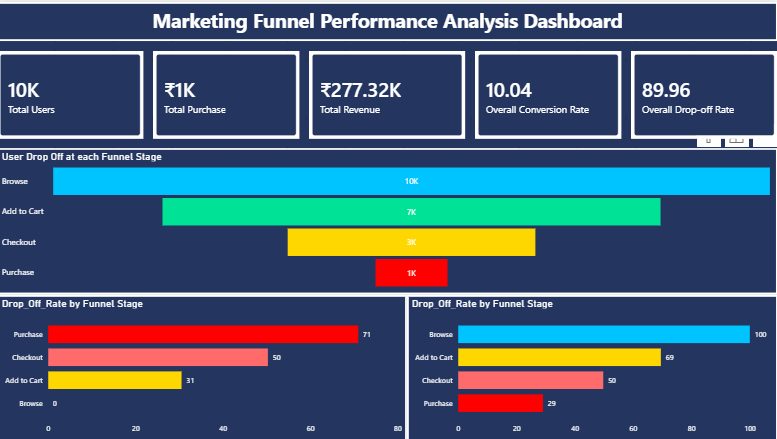

The page's visual inventory and layout, read from the dashboard file:
{"tool":"powerbi","page":{"name":"Funnel Overview","canvas":[1280,720],"ordinal":0},"visuals":[{"type":"textbox","box":[0,0,1280,64],"z":0},{"type":"funnel","title":"User Drop Off at each Funnel Stage","fields":{"Y":["Sum(funnel_summary.Users)"],"Category":["funnel_summary.Stage"]},"box":[0,240,1280,240],"z":1000},{"type":"clusteredBarChart","title":"Drop_Off_Rate by Funnel Stage","fields":{"Category":["funnel_summary.Stage"],"Y":["Sum(funnel_summary.Drop_Off_Rate)"]},"box":[0,480,672,240],"z":2000},{"type":"clusteredBarChart","title":"Drop_Off_Rate by Funnel Stage","fields":{"Category":["funnel_summary.Stage"],"Y":["Sum(funnel_summary.Conversion_from_Previous)"]},"box":[672,480,608,240],"z":3000},{"type":"cardVisual","fields":{"Data":["channel_summary.Total Users"]},"box":[0,80,240,144],"z":4000},{"type":"cardVisual","fields":{"Data":["channel_summary.Total Purchase"]},"box":[256,80,240,144],"z":5000},{"type":"cardVisual","fields":{"Data":["channel_summary.Total Revenue"]},"box":[512,80,256,144],"z":6000},{"type":"cardVisual","fields":{"Data":["channel_summary.Overall Conversion Rate"]},"box":[784,80,240,144],"z":7000},{"type":"cardVisual","fields":{"Data":["channel_summary.Overall Drop-off Rate"]},"box":[1040,80,240,144],"z":8000}]}

Visuals, with their boxes in screenshot pixels (x1, y1, x2, y2), scaled from the page's 1280x720 canvas onto the 777x439 screenshot:
textbox: locate(0, 0, 776, 39)
"User Drop Off at each Funnel Stage" funnel: locate(0, 146, 776, 293)
"Drop_Off_Rate by Funnel Stage" clusteredBarChart: locate(0, 293, 408, 438)
"Drop_Off_Rate by Funnel Stage" clusteredBarChart: locate(408, 293, 776, 438)
cardVisual - channel_summary.Total Users: locate(0, 49, 146, 137)
cardVisual - channel_summary.Total Purchase: locate(155, 49, 301, 137)
cardVisual - channel_summary.Total Revenue: locate(311, 49, 466, 137)
cardVisual - channel_summary.Overall Conversion Rate: locate(476, 49, 622, 137)
cardVisual - channel_summary.Overall Drop-off Rate: locate(631, 49, 776, 137)
